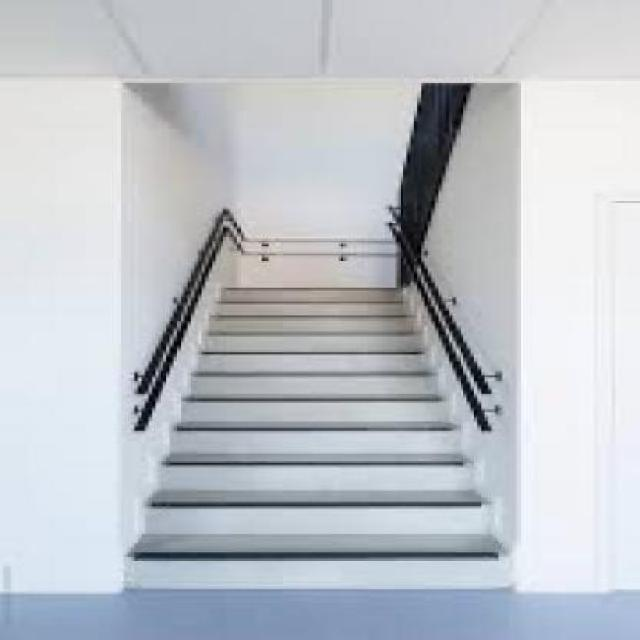stair: (135, 398, 512, 591)
